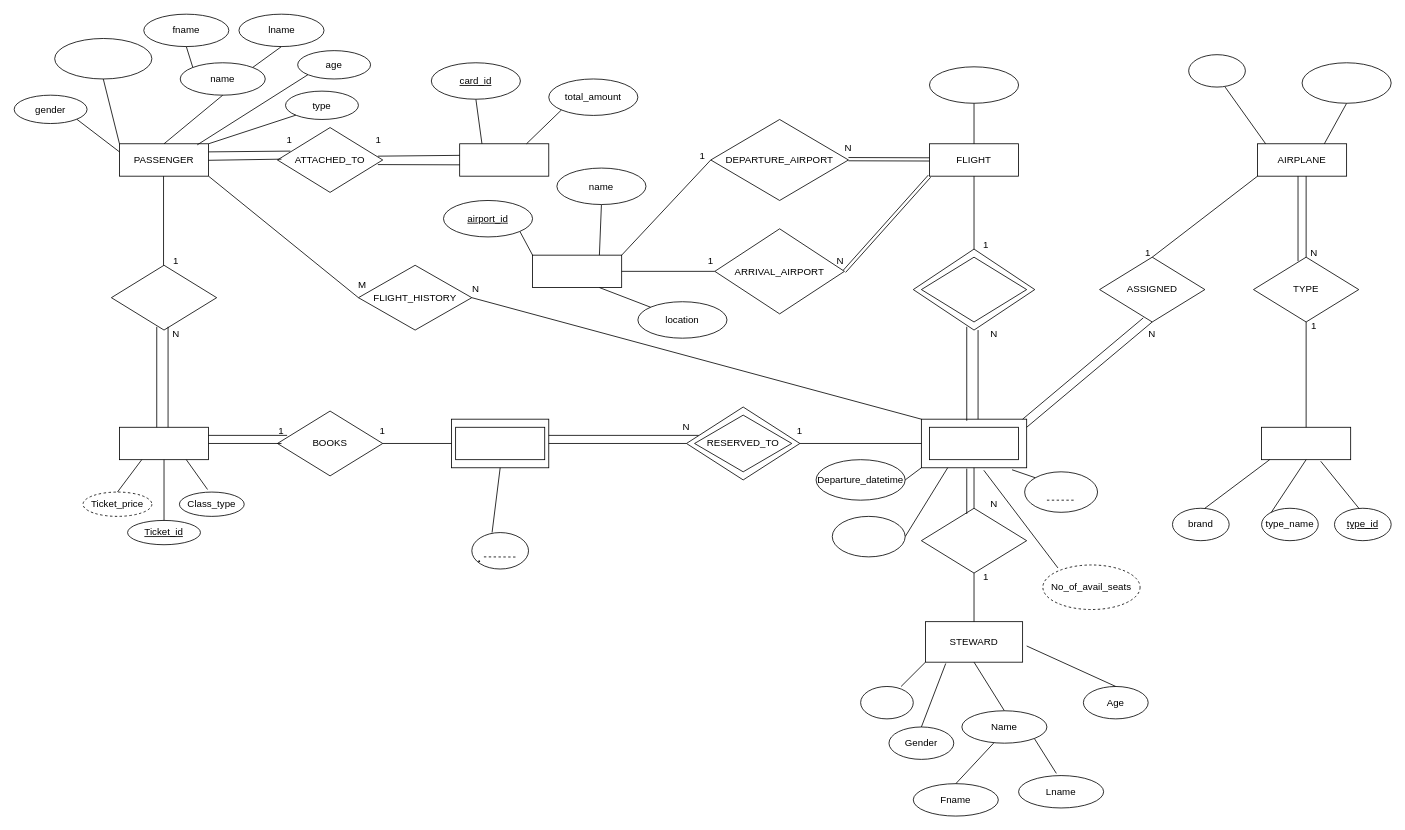
This 1405x830 diagram has some shape labels left out. The shapes that lost their labels are listed below. From the top down, each one's centre as x and y in pixels, then its label:
the point at 103,58: passenger_id
the point at 1216,70: AirplaneID
the point at 974,84: flight_id
the point at 1346,82: total_no_of_seats
the point at 504,159: PAYMENT_CARD
the point at 577,271: AIRPORT
the point at 974,289: INSTANCES
the point at 164,297: GENERATED_TO
the point at 164,443: TICKET
the point at 500,443: SEAT
the point at 974,443: LEG_INSTANCE
the point at 1306,443: AIRPLANE_TYPE
the point at 1061,491: Leg_id
the point at 500,550: Seat_no
the point at 868,536: Arrival_datetime
the point at 974,540: GUIDES_IN
the point at 886,702: Guide_id
